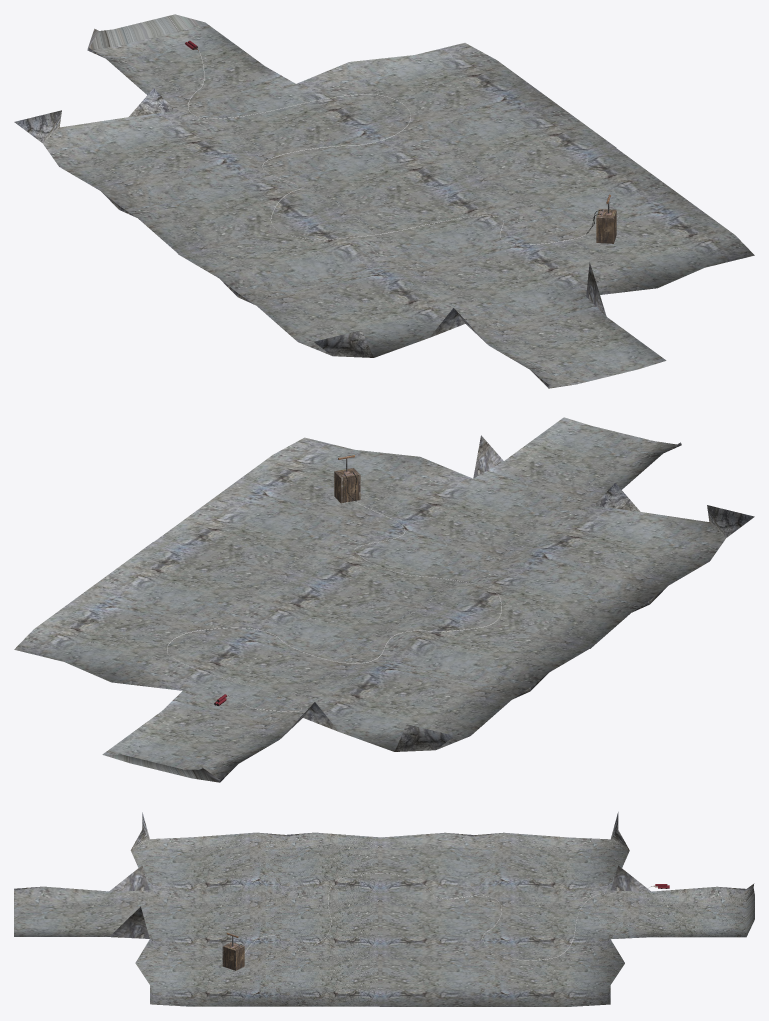
Rendered from MineCable_v2.fbx.
3 views of the same model, one above another, from view 1: azimuth 30°, elevation 25°; view 2: azimuth 150°, elevation 25°; view 3: azimuth 270°, elevation 25° (orthographic). The views are drawn at different scales.
Visible parts, largest first — view 1: Mine_08.001, Mine_08, Cable, Detonator; view 2: Mine_08, Mine_08.001, Cable, Detonator; view 3: Mine_08.001, Mine_08, Detonator, Cable.
Part boxes in pixels (x1=…): Mine_08.001: x1=14, y1=14, x2=616, y2=254; Mine_08: x1=178, y1=148, x2=754, y2=388; Cable: x1=187, y1=51, x2=585, y2=244; Detonator: x1=596, y1=209, x2=616, y2=243; Mine_08: x1=154, y1=417, x2=754, y2=648; Mine_08.001: x1=14, y1=542, x2=589, y2=782; Cable: x1=166, y1=502, x2=501, y2=711; Detonator: x1=334, y1=468, x2=360, y2=503; Mine_08.001: x1=379, y1=812, x2=754, y2=1006; Mine_08: x1=14, y1=812, x2=379, y2=1006; Detonator: x1=222, y1=942, x2=244, y2=970; Cable: x1=245, y1=873, x2=650, y2=960.
Bounding box in the file's own units: 1262 × 117 × 2256.
